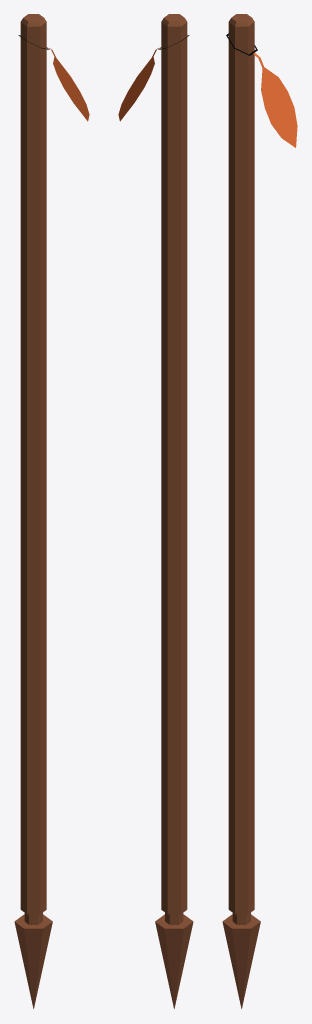
The model's file is Spear.fbx.
The picture shows the model from 3 angles, left to right: view 1: azimuth 30°, elevation 25°; view 2: azimuth 150°, elevation 25°; view 3: azimuth 330°, elevation 25°; orthographic projection.
Visible parts, largest first — view 1: spear, Feather; view 2: spear, Feather; view 3: spear, Feather.
Boxes of the visible parts, bbox=[...] form: spear: bbox=[14, 14, 52, 1008]; Feather: bbox=[18, 35, 89, 121]; spear: bbox=[155, 14, 193, 1008]; Feather: bbox=[118, 35, 189, 121]; spear: bbox=[222, 14, 260, 1008]; Feather: bbox=[226, 33, 297, 147].
Size of the model in its own units: 14.55 by 200 by 8.42.
